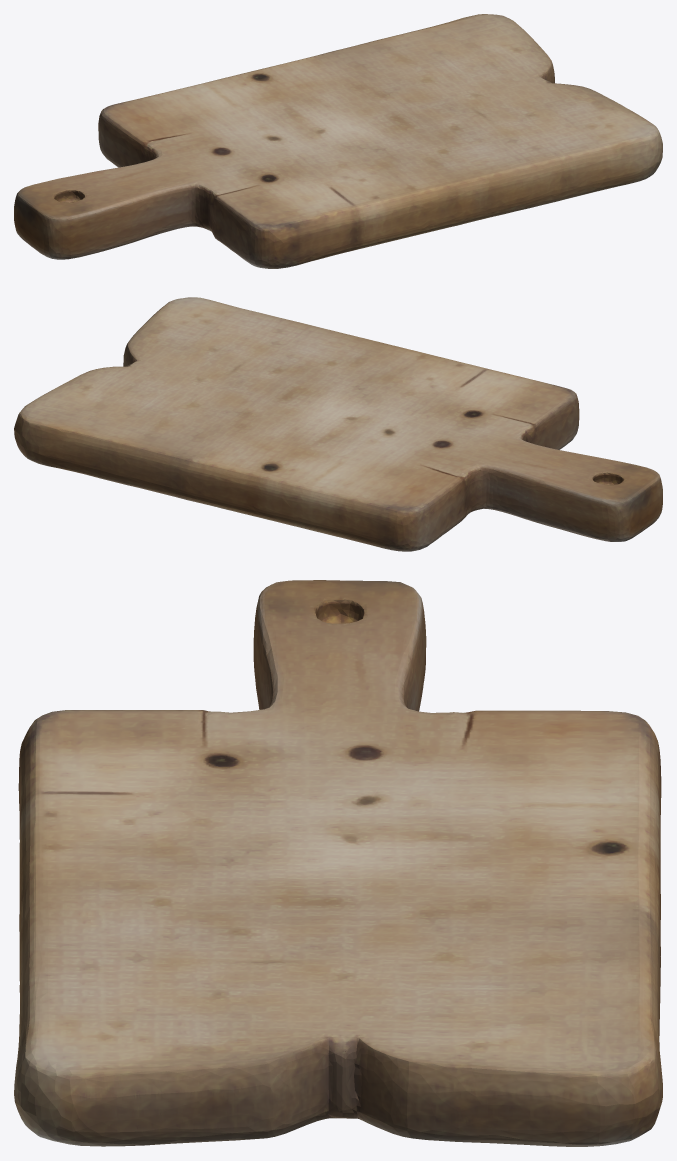
3 views of the same model, one above another, from view 1: azimuth 30°, elevation 25°; view 2: azimuth 150°, elevation 25°; view 3: azimuth 270°, elevation 25° (orthographic). The views are drawn at different scales.
Parts seen in each view (by area): view 1: world; view 2: world; view 3: world.
Boxes of the visible parts, bbox=[...] form: world: bbox=[14, 14, 662, 268]; world: bbox=[14, 297, 662, 551]; world: bbox=[14, 580, 662, 1146].
Size of the model in its own units: 0.9996 by 0.0789 by 0.5484.
1 material, 1 textured.
